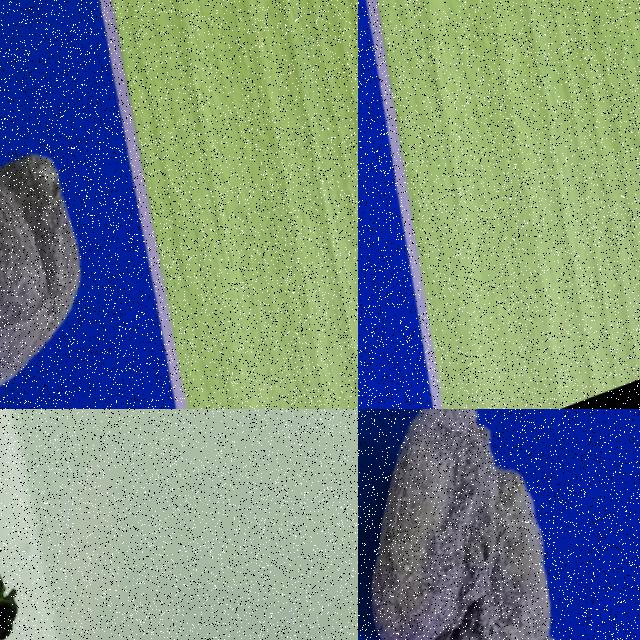Agglomerated_cocoabeans: (358, 409, 639, 639), (0, 61, 156, 408), (358, 0, 460, 408)
Flat_cocoabeans: (0, 447, 104, 639)
